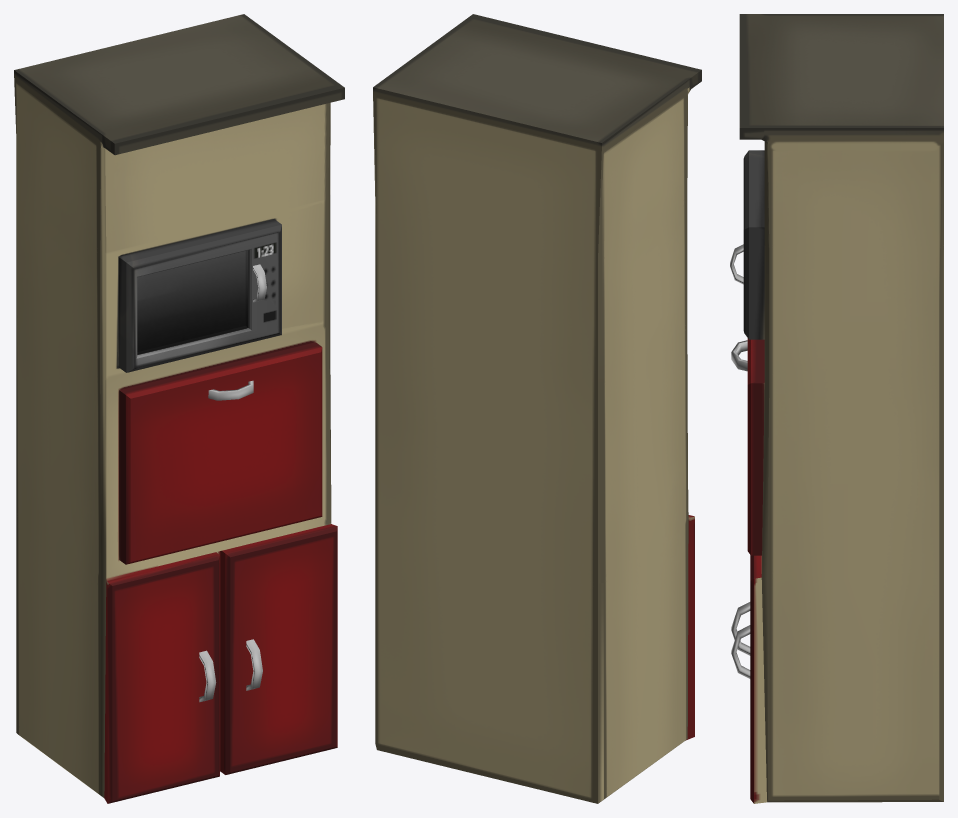
Rendered from Microwave.fbx.
The picture shows the model from 3 angles, left to right: view 1: azimuth 30°, elevation 25°; view 2: azimuth 150°, elevation 25°; view 3: azimuth 270°, elevation 25°; orthographic projection. The views are drawn at different scales.
Parts seen in each view (by area): view 1: Microwave1; view 2: Microwave1; view 3: Microwave1.
Boxes of the visible parts, left/top/right/bottom form: Microwave1: left=14, top=14, right=344, bottom=803; Microwave1: left=373, top=14, right=701, bottom=803; Microwave1: left=730, top=14, right=943, bottom=803.
Size of the model in its own units: 3.95 by 10.93 by 3.13.
